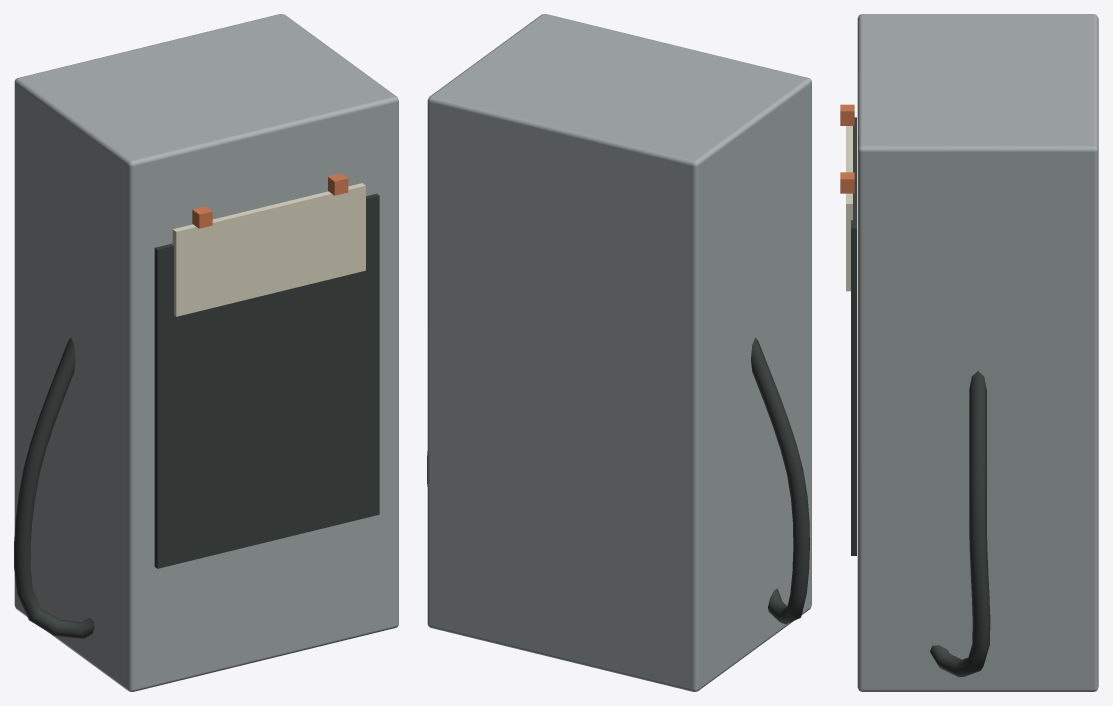
Rendered from roadside-survival-stops-twin-hose-dispenser-be57f052__23533.glb.
3 renders of one model, left to right at view 1: azimuth 30°, elevation 25°; view 2: azimuth 150°, elevation 25°; view 3: azimuth 270°, elevation 25°, orthographic. The views are drawn at different scales.
Parts seen in each view (by area): view 1: twin-hose-dispenser; view 2: twin-hose-dispenser; view 3: twin-hose-dispenser.
Boxes of the visible parts, left/top/right/bottom form: twin-hose-dispenser: left=14, top=14, right=398, bottom=691; twin-hose-dispenser: left=427, top=14, right=811, bottom=691; twin-hose-dispenser: left=840, top=14, right=1098, bottom=691.
Size of the model in its own units: 1.13 by 1.5 by 0.6425.
